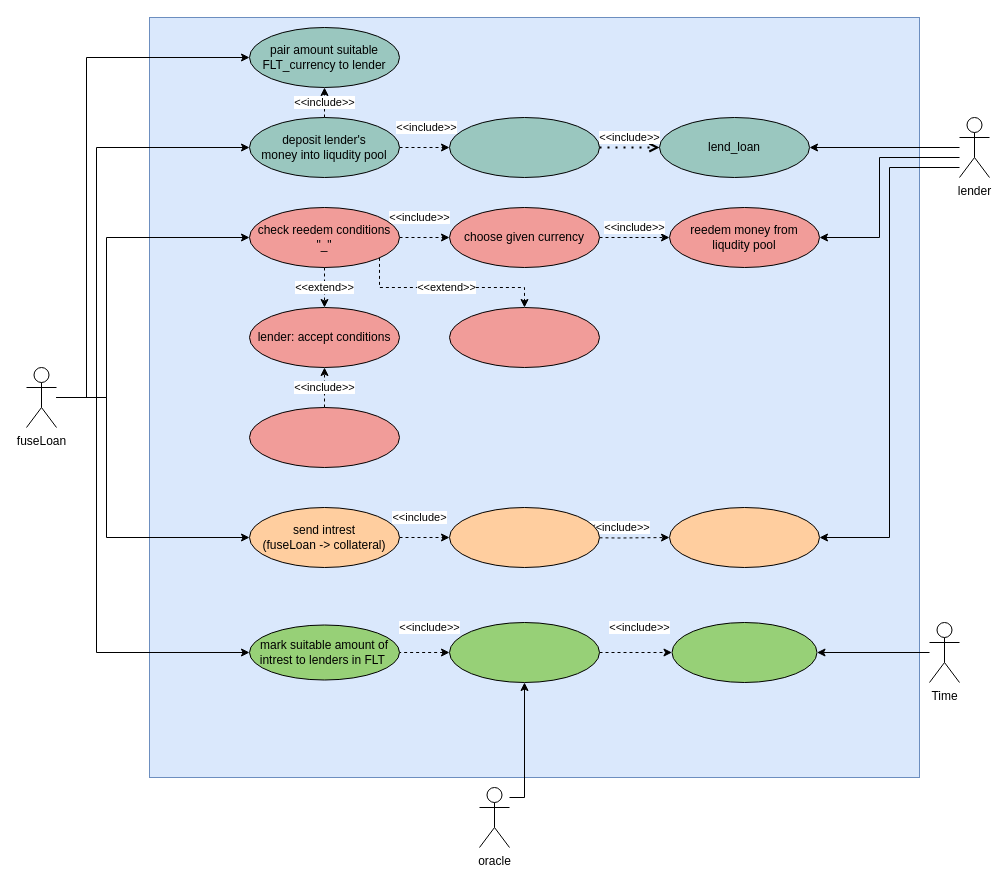
Some shapes in this 1008 by 886 pixel diagram are drawn without their labels. The centre of each missing label's shape, as x and y in pixels:
"choose currency intrest" goes at [524,537].
"choose liqudity pool && amount" goes at [524,147].
"claim intrest" goes at [744,537].
"day have been passed" goes at [744,652].
"lender: decline conditions" goes at [524,337].
"reedem money under accepted conditions" goes at [324,437].
"trigger, intrests" goes at [524,652].
